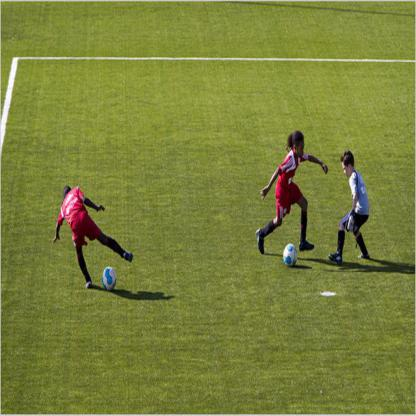face: (342, 162, 350, 178), (298, 143, 305, 159)
